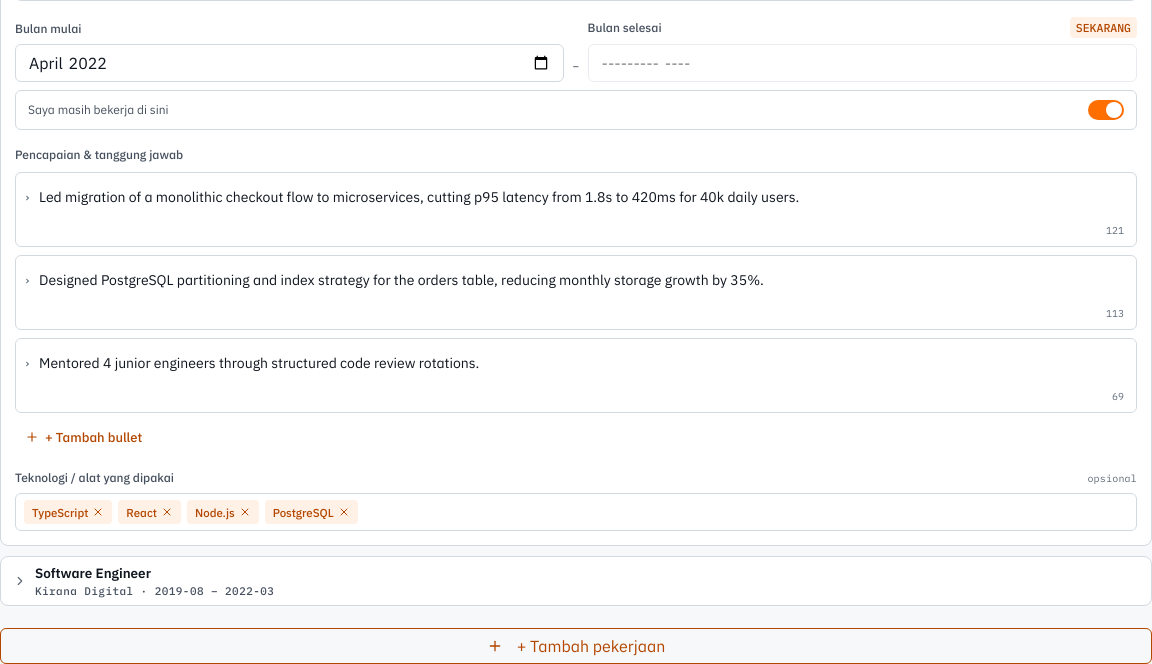
ExperienceEditor › tombah entri baru, otomatis terbuka, lalu ketik ke entri baru
(page scrolled)
Click the button "+ Tambah pekerjaan" at (576, 646), box x1=0 y1=628 x2=1151 y2=663
(page scrolled)
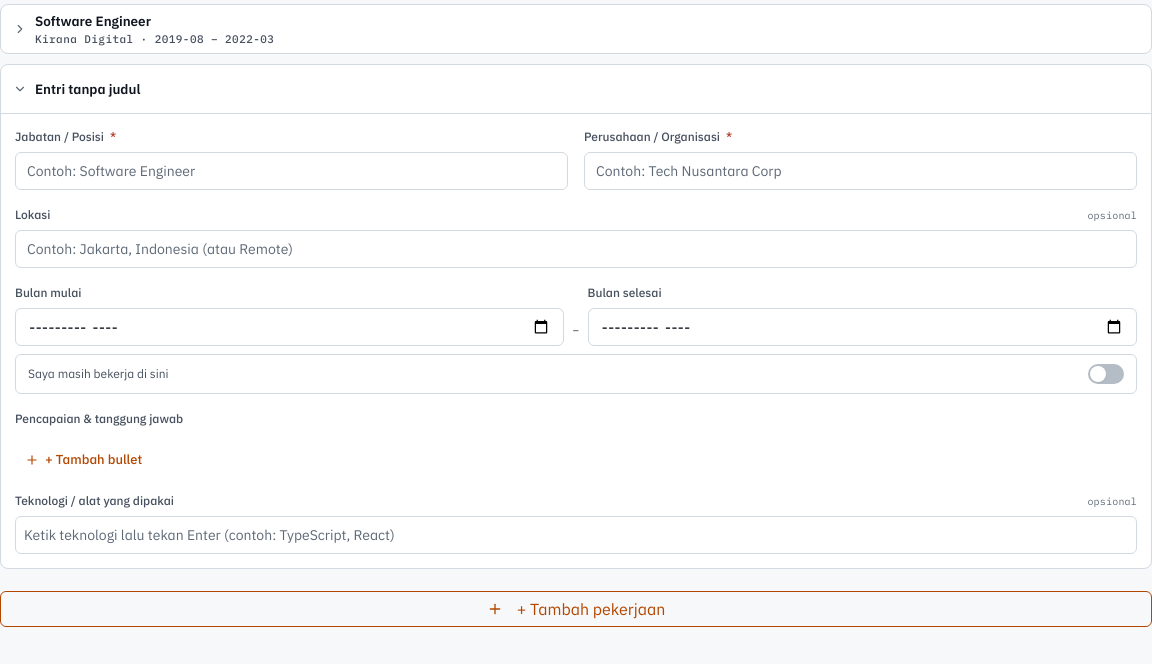
Type "Intern" into the field with placeholder "Contoh: Software Engineer" at (292, 171), box x1=15 y1=152 x2=568 y2=190
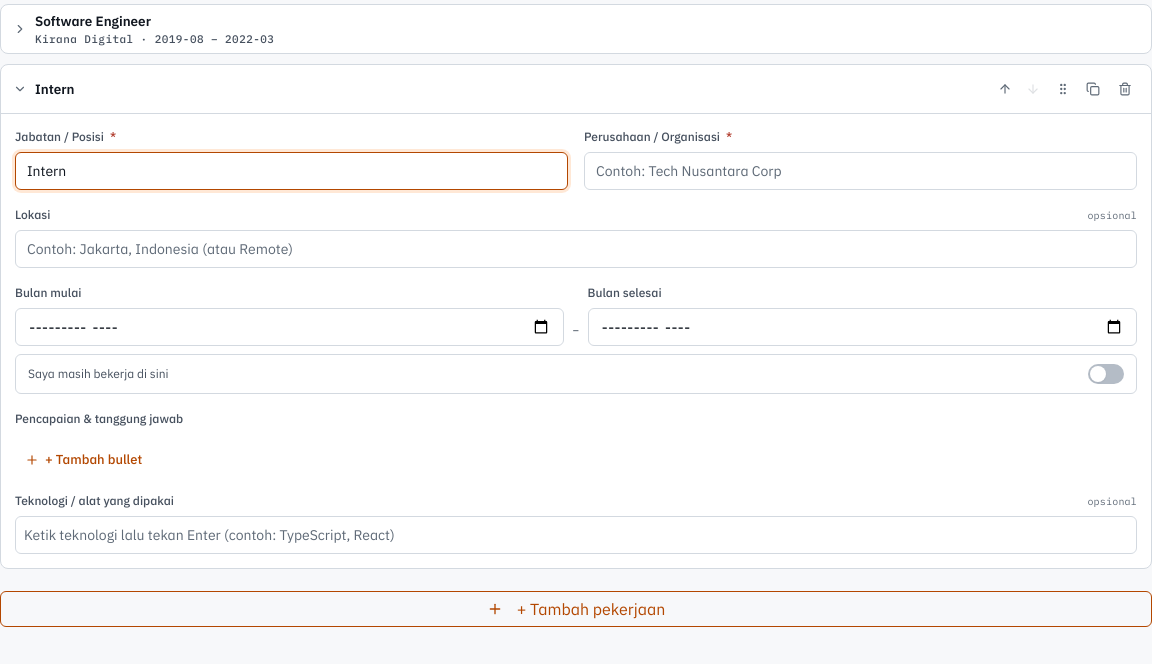
Now the heading "Intern" is shown, box x1=35 y1=80 x2=74 y2=98
